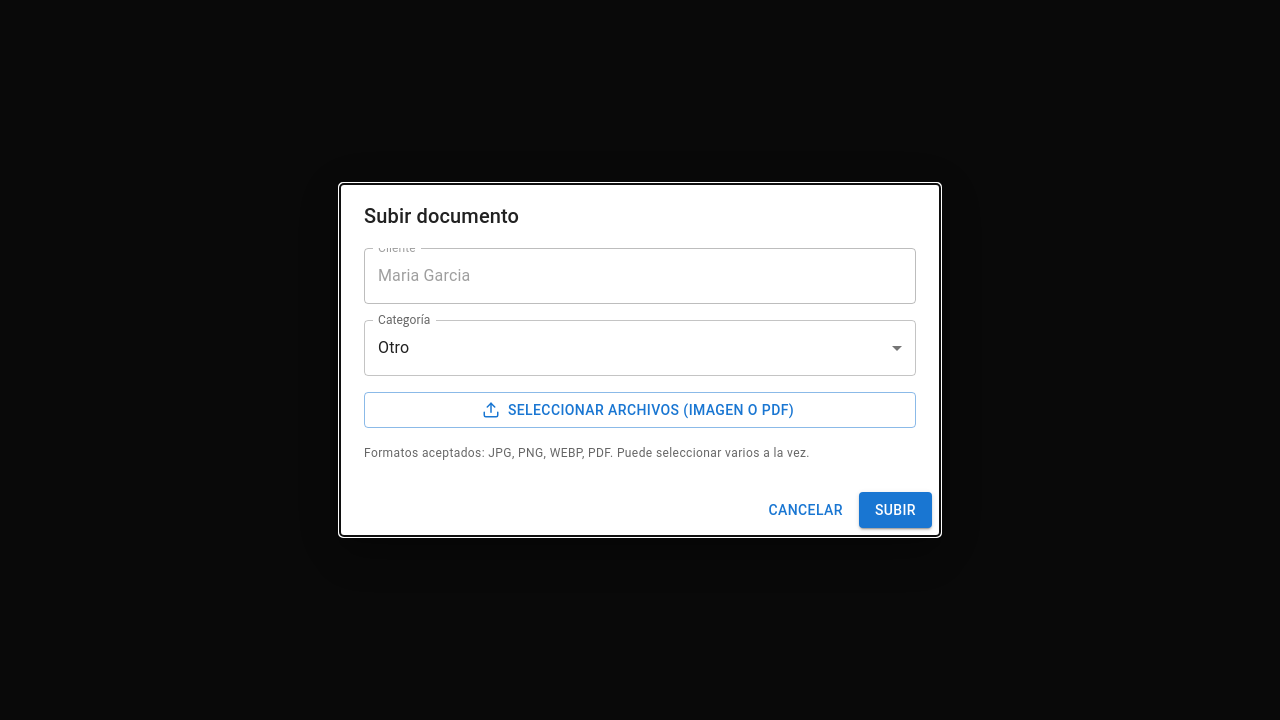
Test: DocumentoUploadDialog › rechaza el envío si no se ha seleccionado ningún archivo
Click the button "Subir".
click(895, 510)  # box [859,492,932,528]
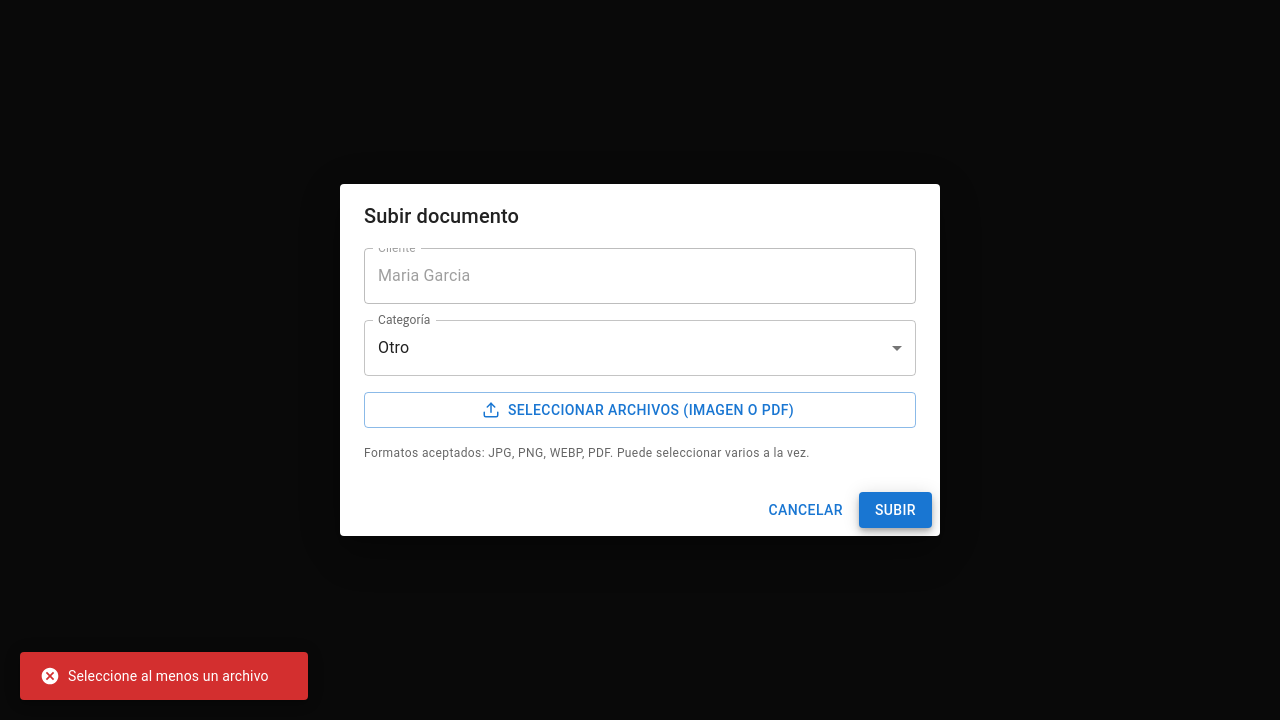
Check: the text "Seleccione al menos un archivo" is shown, box [40,666,269,686]
